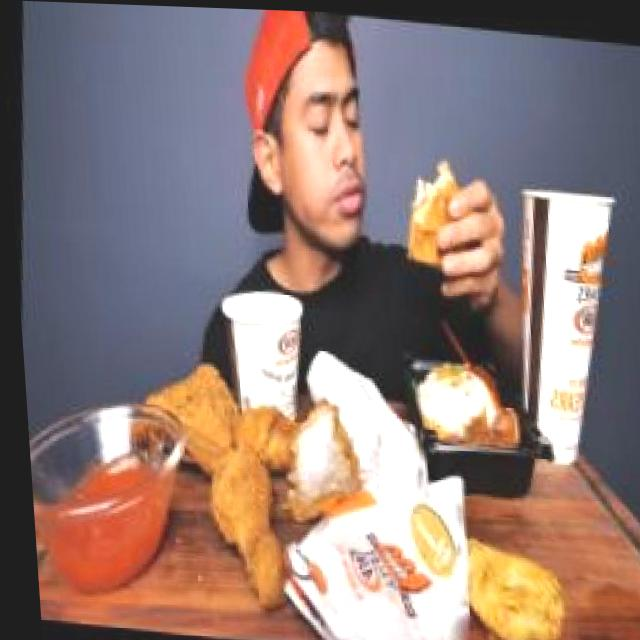AW cola: (491, 162, 630, 481)
black pepper rice bowl: (394, 334, 530, 491)
chicken waffle: (385, 146, 482, 287)
crispy corn: (199, 265, 311, 451)
fried chicken: (130, 346, 362, 628)
perkedel: (439, 504, 570, 640)
